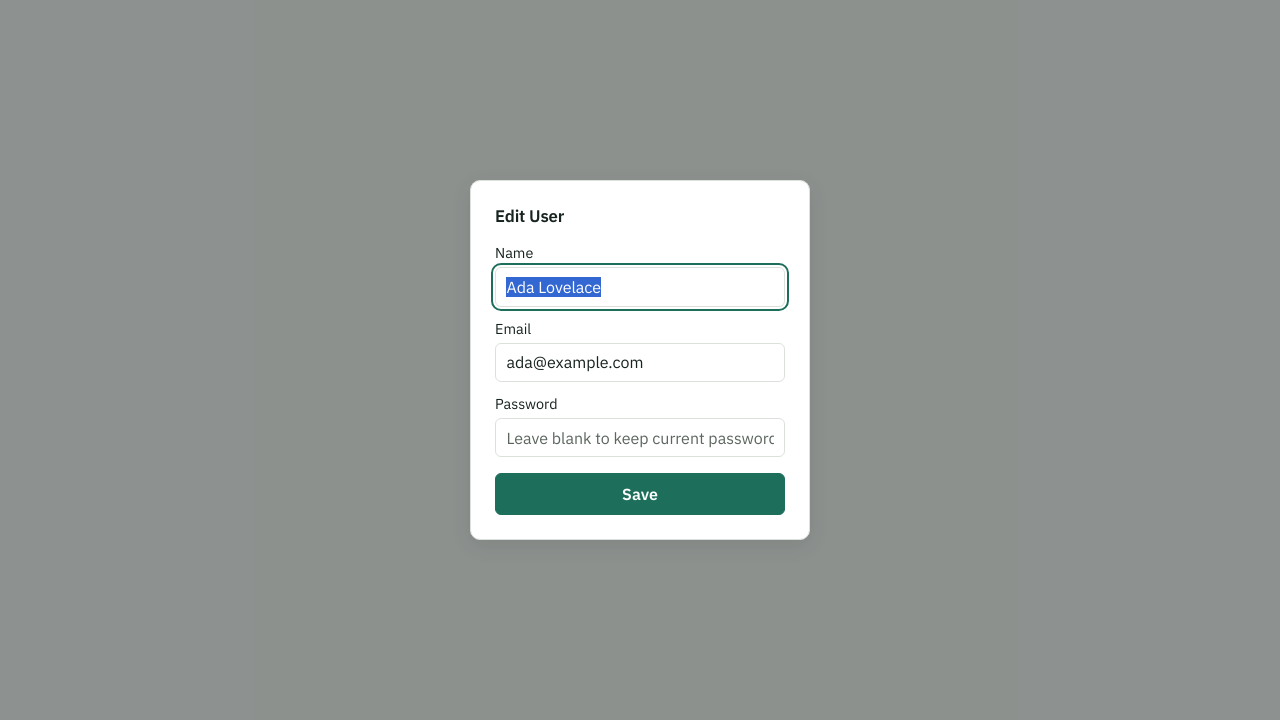
Test case: shows validation errors and does not submit when fields are invalid
The image size is (1280, 720).
Replace the text in the field labelled "Email" with "not-an-email" at (640, 362), box [495,342,785,382]
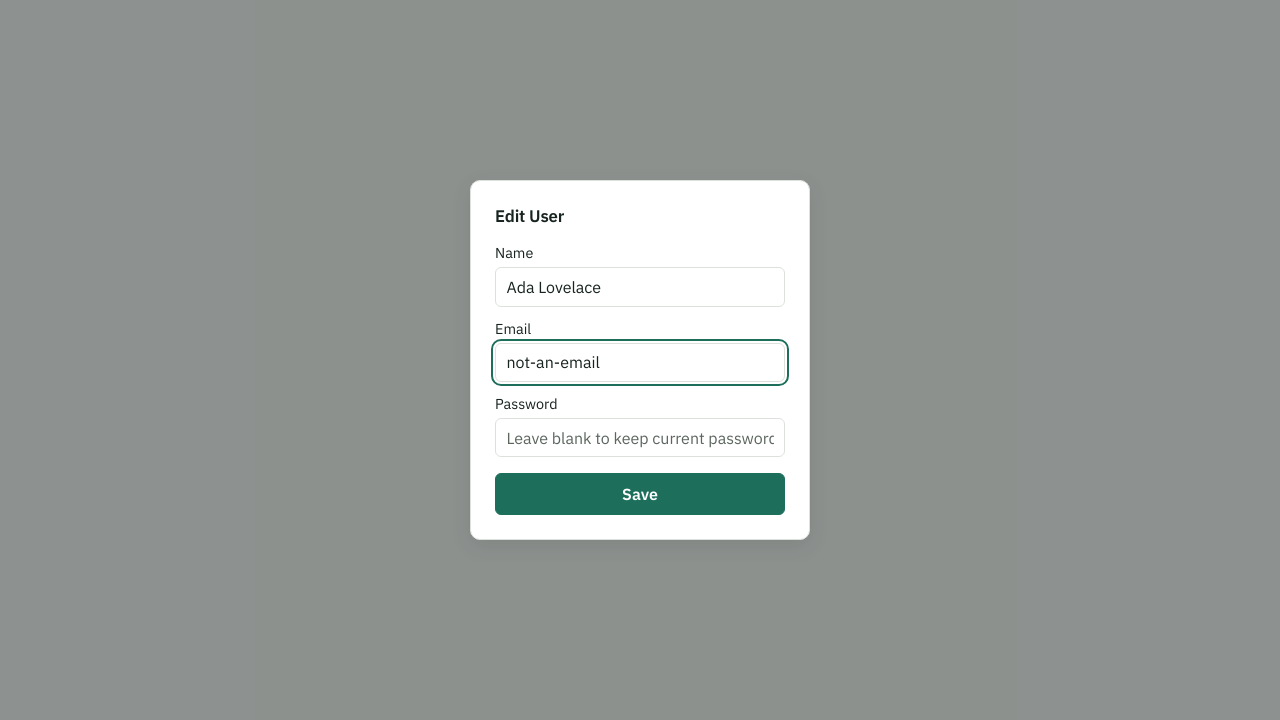
Type "1234" into the password field labelled "Password".
click(640, 438); type("1234")  # box [495,418,785,458]
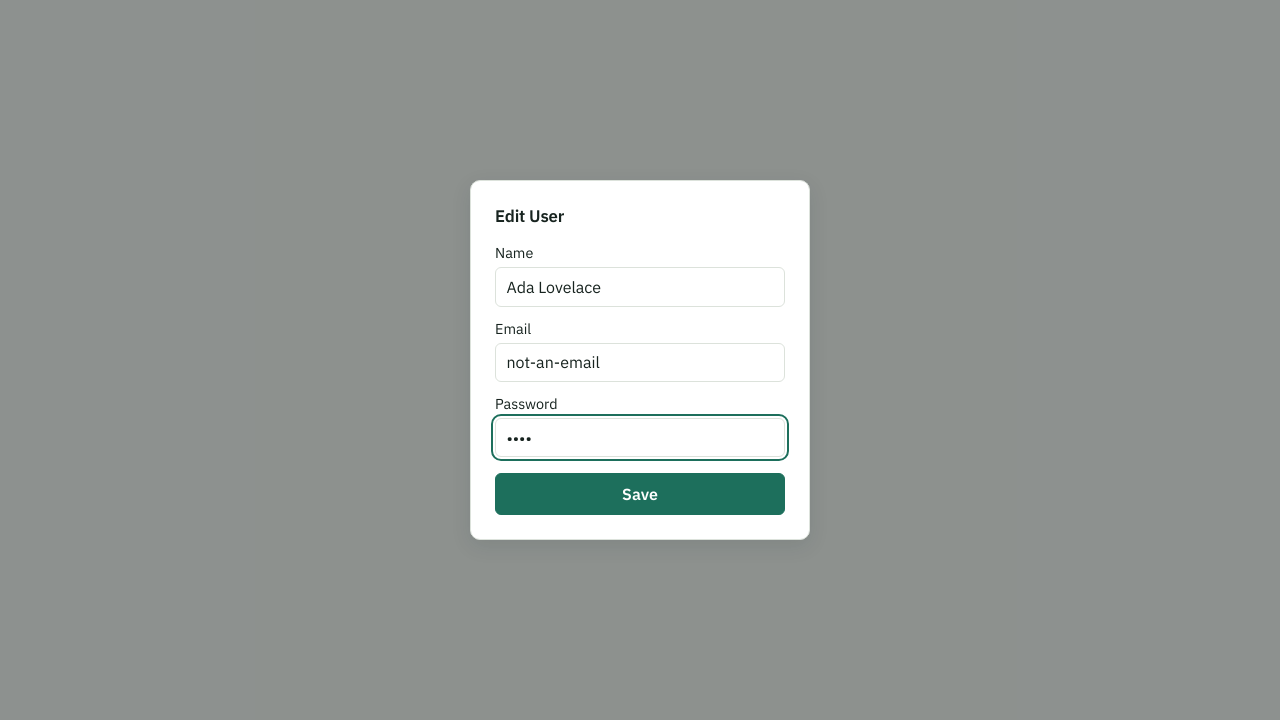
Click the button "Save".
click(640, 494)  # box [495,474,785,515]
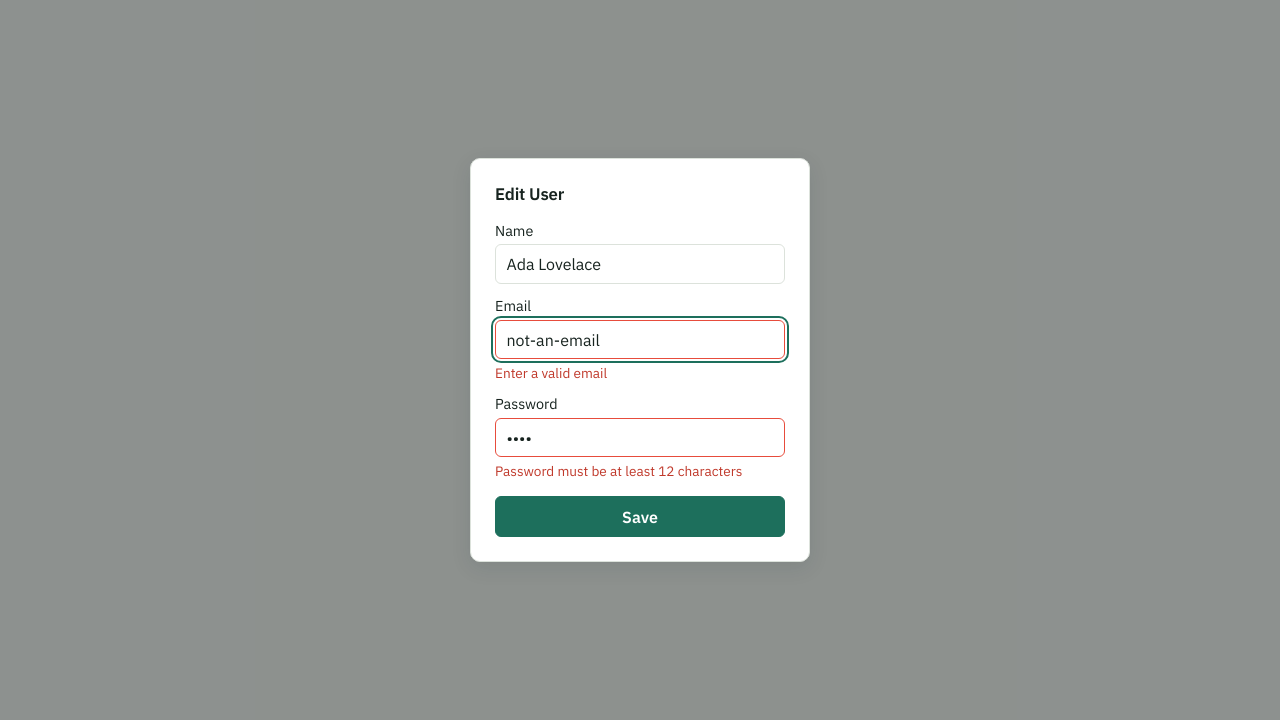
Now the text "Enter a valid email" is shown, box [495,364,607,382]
Now the text "Password must be at least 12 characters" is shown, box [495,462,785,480]
